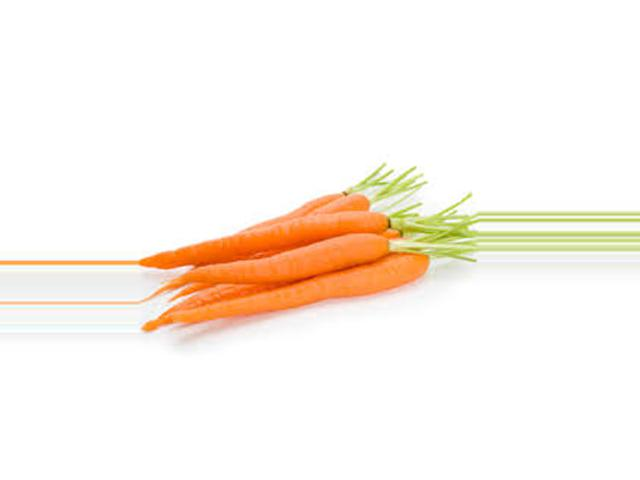carrot: (143, 270, 437, 320)
